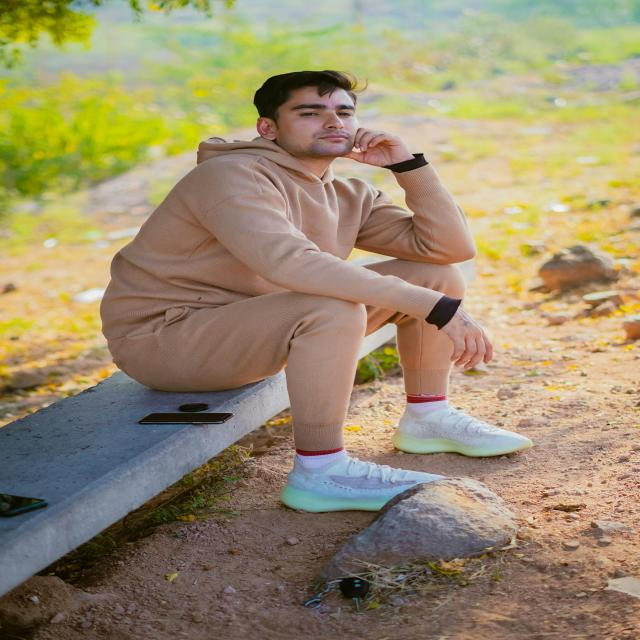sit: (98, 54, 540, 508)
